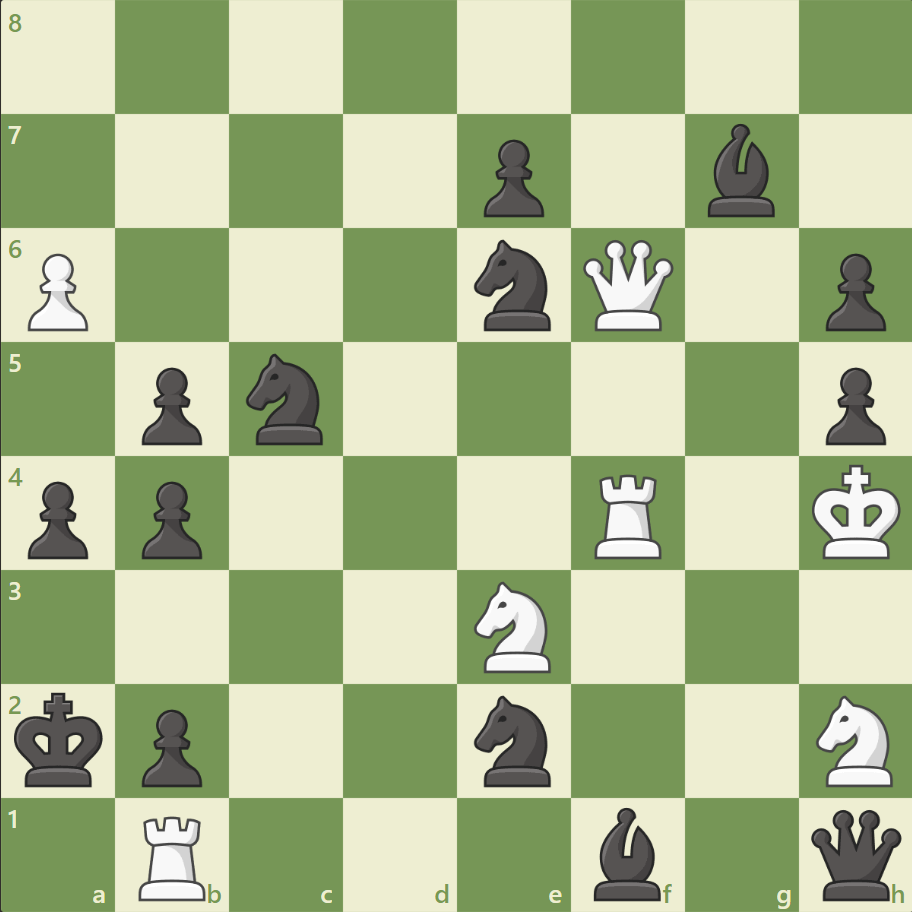K: (806, 458, 906, 566)
N: (806, 688, 903, 791), (465, 575, 562, 677)
P: (20, 246, 95, 337)
Q: (578, 236, 677, 335)
R: (587, 466, 670, 563), (133, 806, 215, 904)
b: (585, 801, 669, 904), (698, 120, 782, 222)
k: (11, 685, 111, 793)
n: (465, 234, 562, 337), (465, 688, 562, 791), (238, 348, 335, 450)
p: (474, 132, 549, 223), (133, 359, 208, 450), (20, 473, 95, 564), (133, 473, 208, 564), (133, 700, 208, 791), (815, 246, 889, 337), (815, 359, 889, 450)
q: (805, 804, 904, 903)
